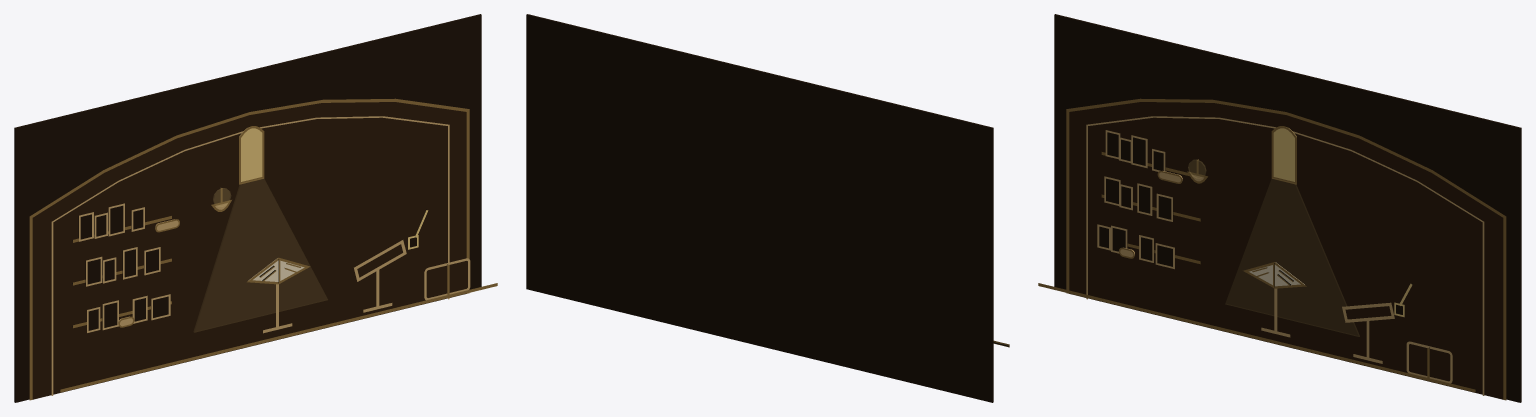
The model's file is loc-skriptoriy.glb.
3 views of the same model, side by side, from view 1: azimuth 30°, elevation 25°; view 2: azimuth 150°, elevation 25°; view 3: azimuth 330°, elevation 25° (orthographic).
Visible parts, largest first — view 1: loc-skriptoriy; view 2: loc-skriptoriy; view 3: loc-skriptoriy.
Part boxes in pixels (x1,y1,x2,y2): loc-skriptoriy: [14, 14, 497, 402]; loc-skriptoriy: [526, 14, 1009, 402]; loc-skriptoriy: [1038, 14, 1521, 402].
Bounding box in the file's own units: 5.33 × 3 × 0.66.
